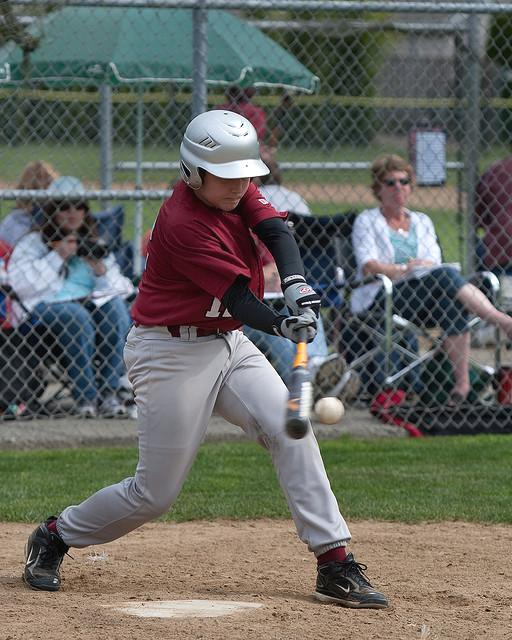ball: (316, 398, 346, 426)
bat: (288, 326, 312, 439)
